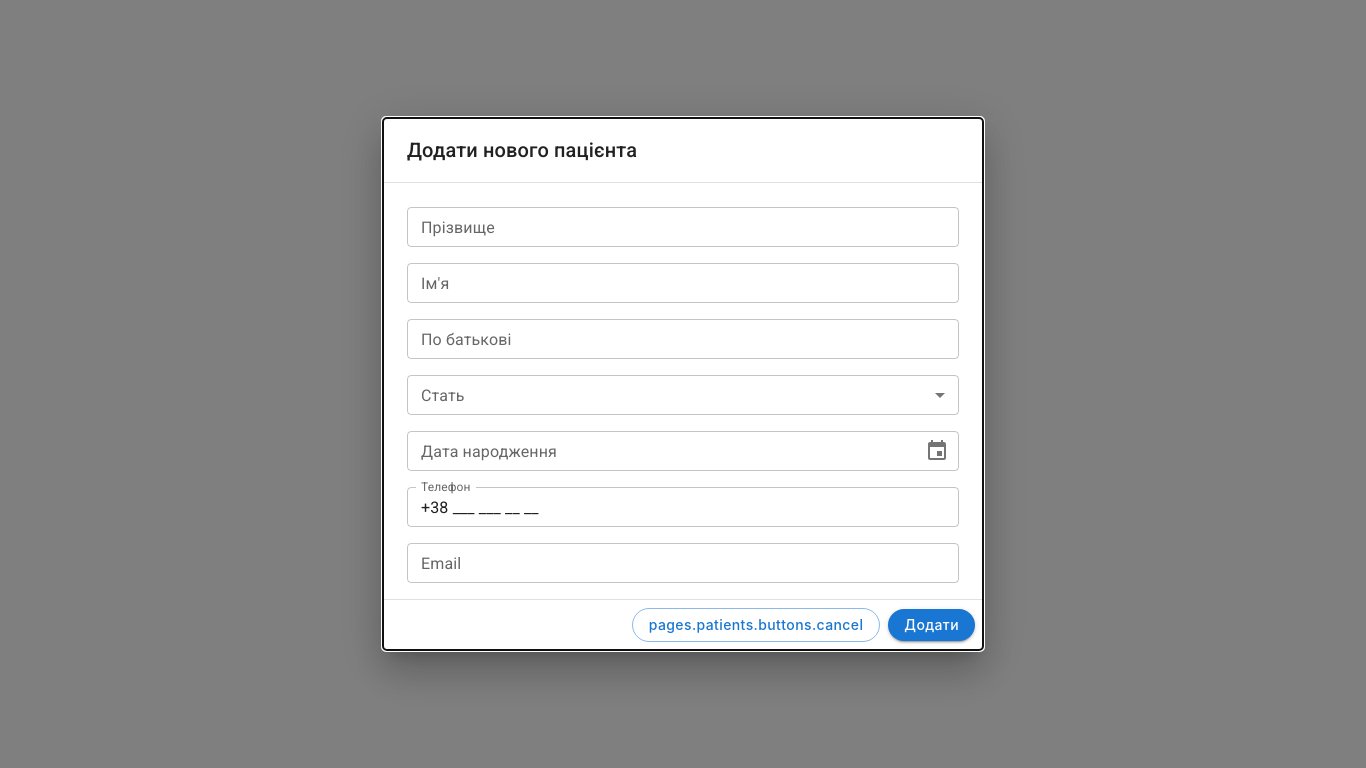
Scenario: PatientsForm UI Component › displays validation errors when submitting empty required fields
Click the button "Додати" at {"x": 932, "y": 625}, box [888,609,975,641]
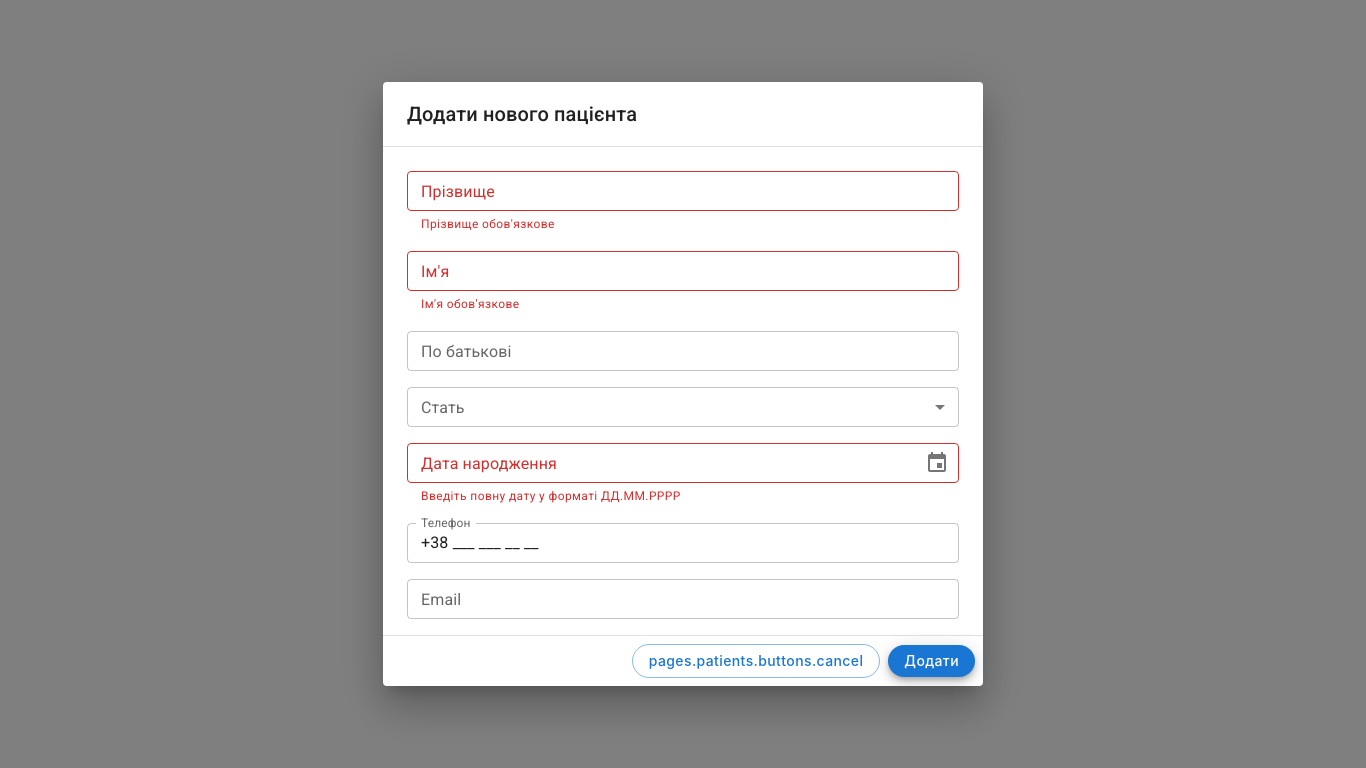
Expected: the text "Прізвище обов'язкове" is shown, [421,217,555,231]
Expected: the text "Ім'я обов'язкове" is shown, [421,297,520,311]
Expected: the text "Введіть повну дату у форматі ДД.ММ.РРРР" is shown, [421,489,681,503]
